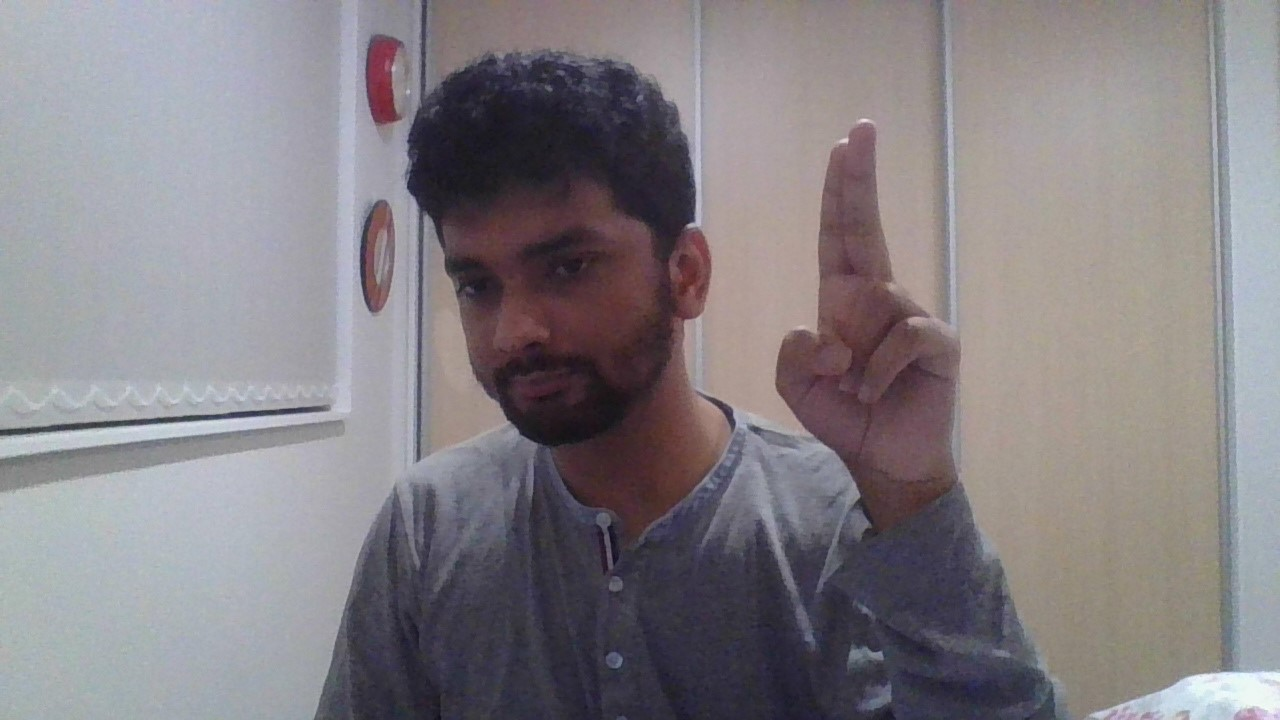peace: (775, 118, 963, 477)
